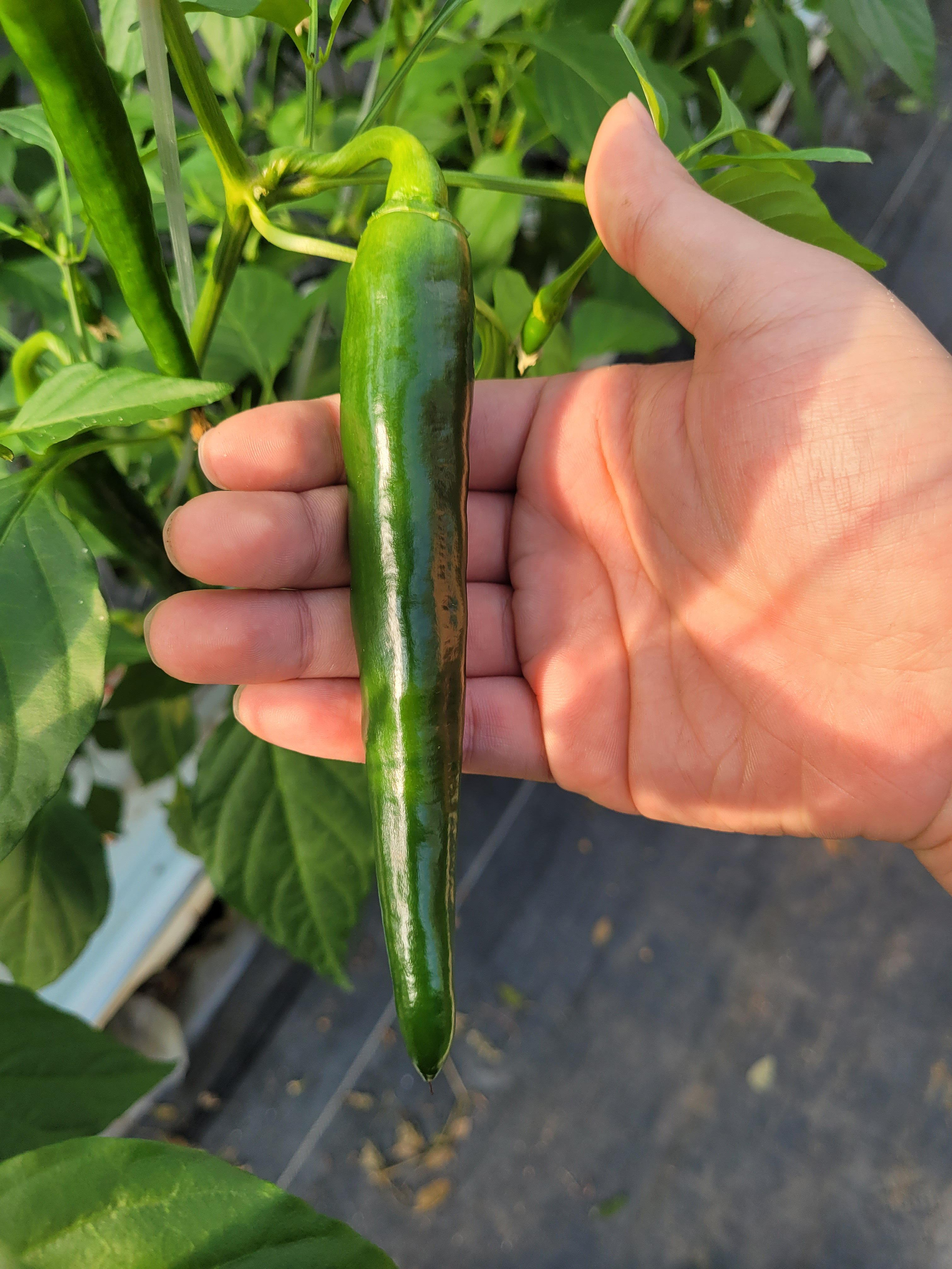Buah Cabai Sehat: (325, 175, 480, 1090), (9, 0, 213, 409)
